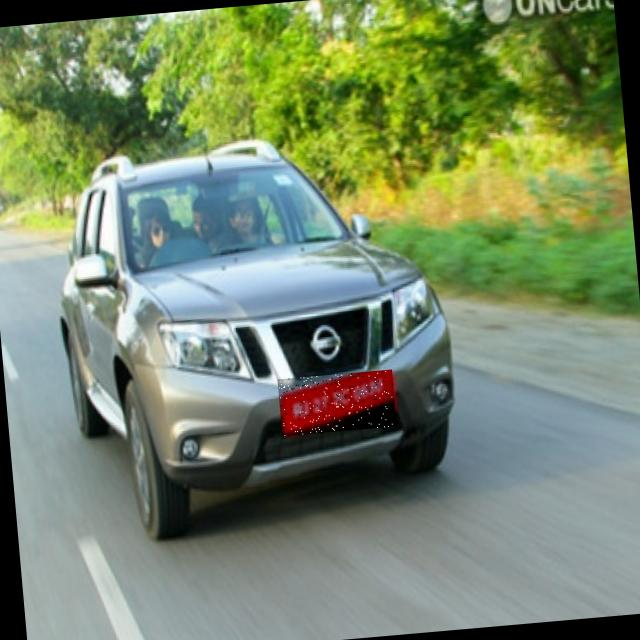Plate: (278, 370, 398, 437)
